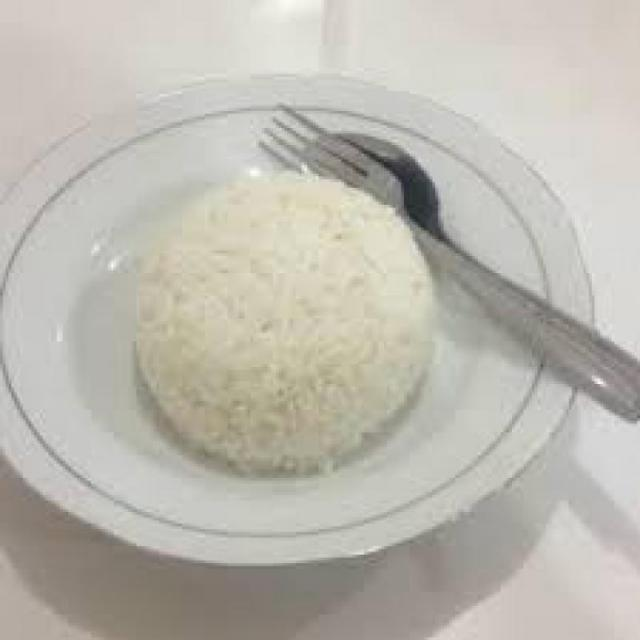rice: (132, 169, 438, 478)
